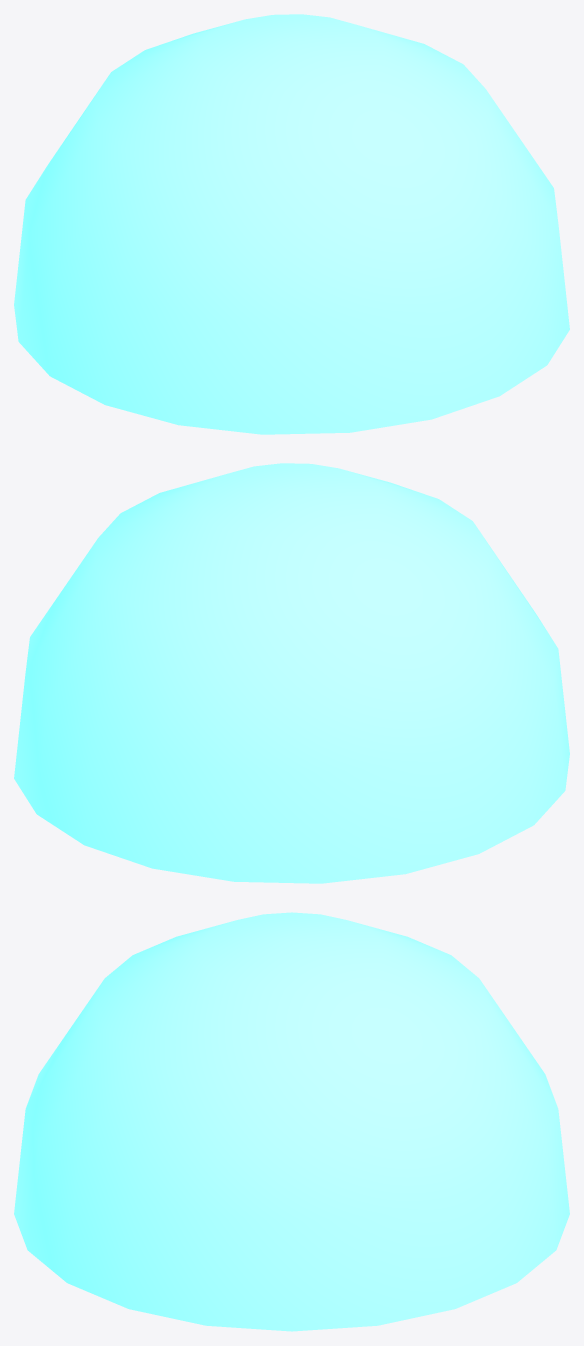
File: GlowDrop_Cyan.fbx
3 renders of one model, top to bottom at view 1: azimuth 30°, elevation 25°; view 2: azimuth 150°, elevation 25°; view 3: azimuth 270°, elevation 25°, orthographic.
Parts seen in each view (by area): view 1: GlowDrop_Cyan; view 2: GlowDrop_Cyan; view 3: GlowDrop_Cyan.
Part boxes in pixels (left/top/right/bottom): GlowDrop_Cyan: left=14, top=14, right=569, bottom=434; GlowDrop_Cyan: left=14, top=463, right=569, bottom=883; GlowDrop_Cyan: left=14, top=912, right=569, bottom=1331.
Size of the model in its own units: 2.4 by 1.3 by 2.4.
